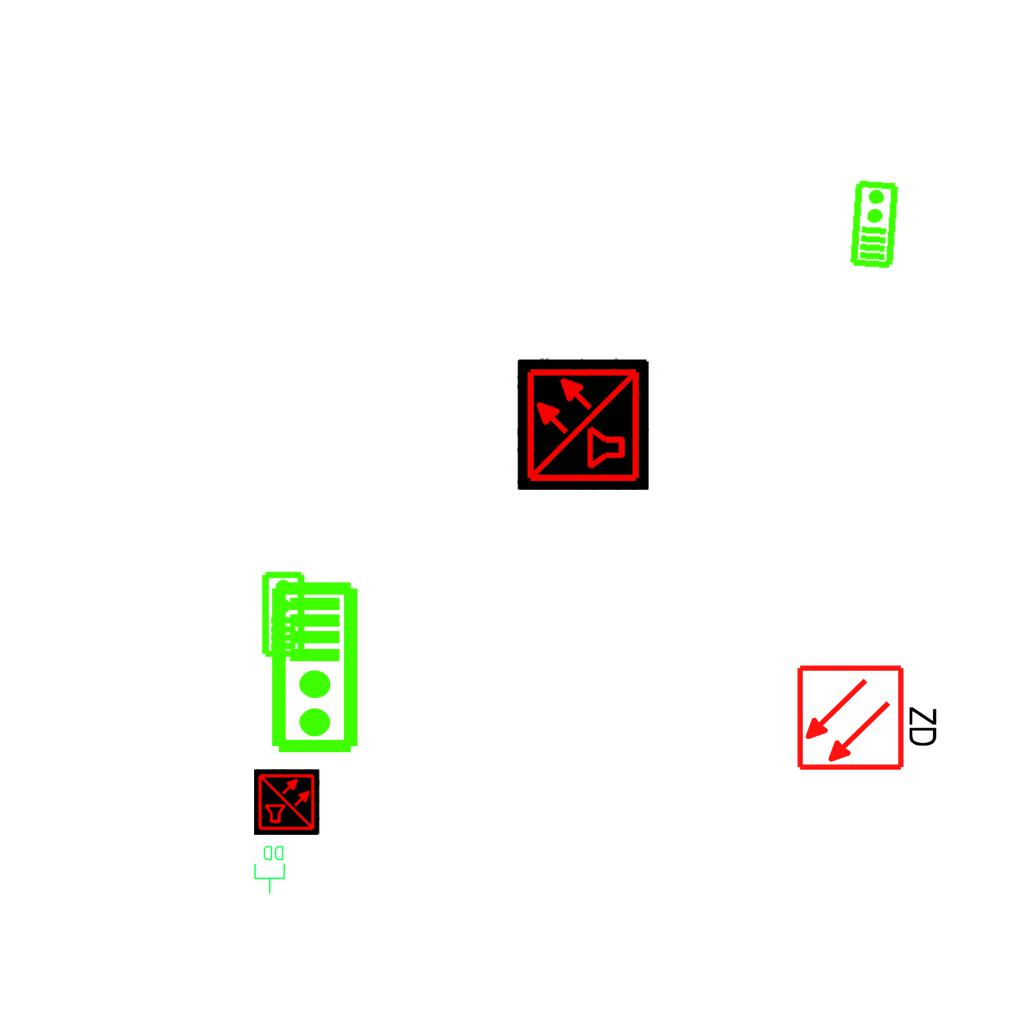Datenanschluss_zweifach: (253, 844, 287, 895)
Gegensprechanlage_mit_Video: (269, 580, 364, 756), (846, 178, 901, 270), (259, 570, 306, 658)
OKW_Multisensormelder_(Kombination_optischer_Rauch-Kahlenmonoxid_Waerme-Melder): (517, 358, 649, 490), (254, 769, 320, 835)
ZD_Melder_in_Zwischendecke_mit_Revisionsoeffnung_mind_40_x_40_cm: (795, 659, 944, 773)
